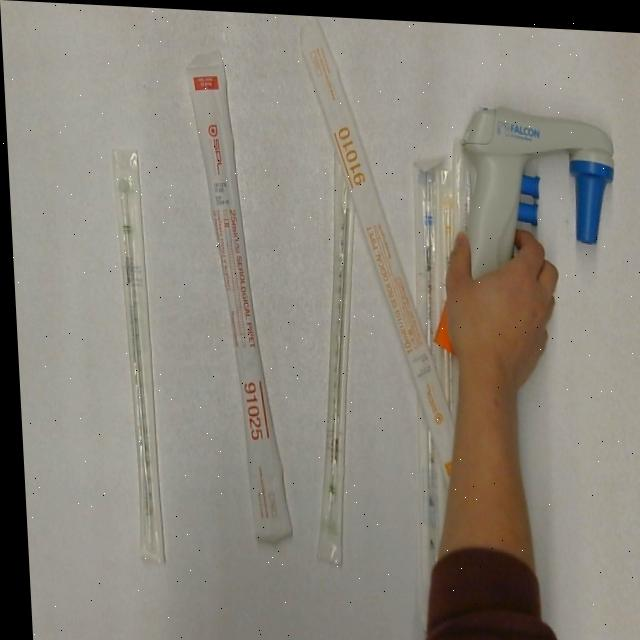Pipette Controller: (420, 96, 624, 360)
Serelogical Pipet 1 mL: (435, 161, 461, 293)
Serelogical Pipet 10 mL: (298, 14, 459, 487)
Serelogical Pipet 2 mL: (292, 145, 371, 564), (105, 145, 169, 567)
Serelogical Pipet 25 mL: (184, 46, 293, 547)
Serelogical Pipet 5 mL: (394, 143, 464, 619)
